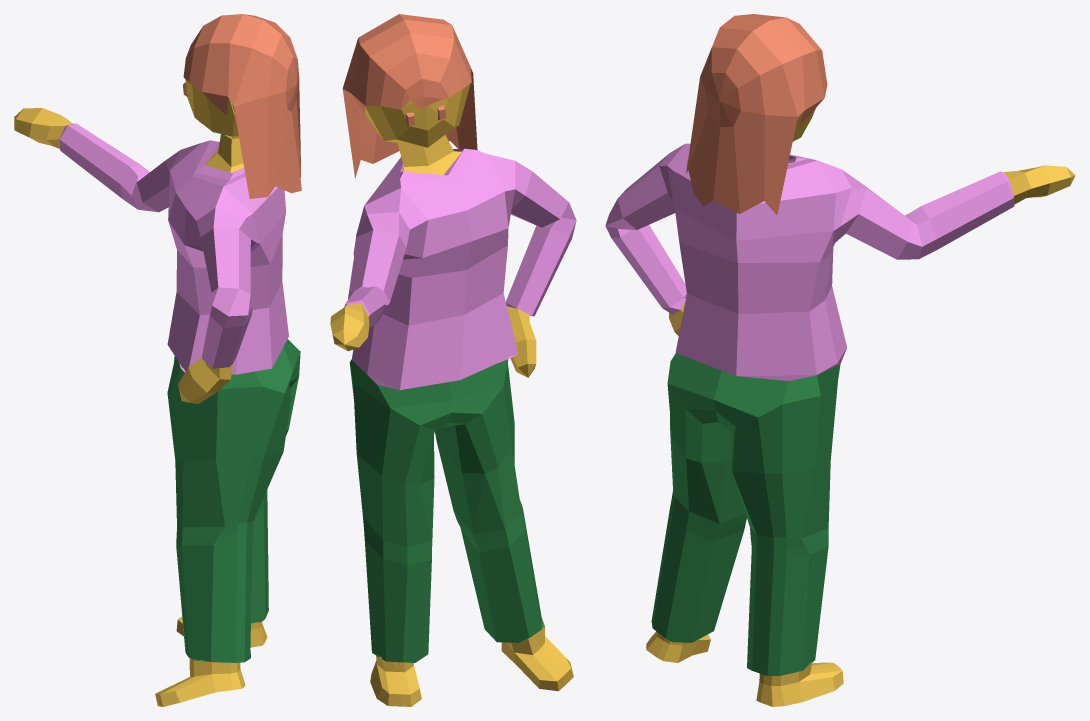
The model's file is 109_お話(Woman).glb.
3 views of the same model, side by side, from view 1: azimuth 30°, elevation 25°; view 2: azimuth 150°, elevation 25°; view 3: azimuth 270°, elevation 25° (orthographic). The views are drawn at different scales.
Parts seen in each view (by area): view 1: 立方体026_2, 立方体026_4, 立方体026, 立方体026_1, 立方体026_3; view 2: 立方体026_4, 立方体026_2, 立方体026, 立方体026_1, 立方体026_3; view 3: 立方体026_4, 立方体026_2, 立方体026, 立方体026_1, 立方体026_3.
Part boxes in pixels (box(x1,y1,x2,y2)): 立方体026_2: box(167, 339, 300, 662); 立方体026_4: box(59, 123, 288, 374); 立方体026: box(183, 14, 301, 198); 立方体026_1: box(155, 79, 267, 706); 立方体026_3: box(14, 108, 232, 403); 立方体026_4: box(344, 148, 576, 389); 立方体026_2: box(349, 359, 544, 662); 立方体026: box(342, 14, 477, 178); 立方体026_1: box(365, 83, 573, 706); 立方体026_3: box(330, 302, 536, 377); 立方体026_4: box(605, 143, 1014, 380); 立方体026_2: box(651, 353, 840, 675); 立方体026: box(686, 14, 827, 215); 立方体026_1: box(646, 108, 843, 706); 立方体026_3: box(669, 165, 1075, 335).
Size of the model in its own units: 0.5856 by 2.06 by 1.28.
